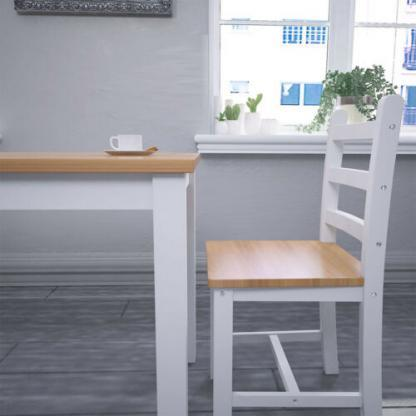chair: (197, 75, 414, 416)
table: (0, 120, 203, 416)
